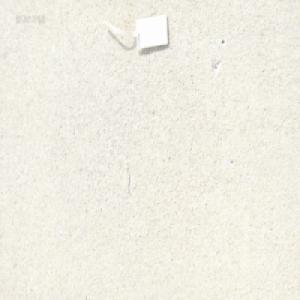LuggageTag: (100, 13, 170, 56)
